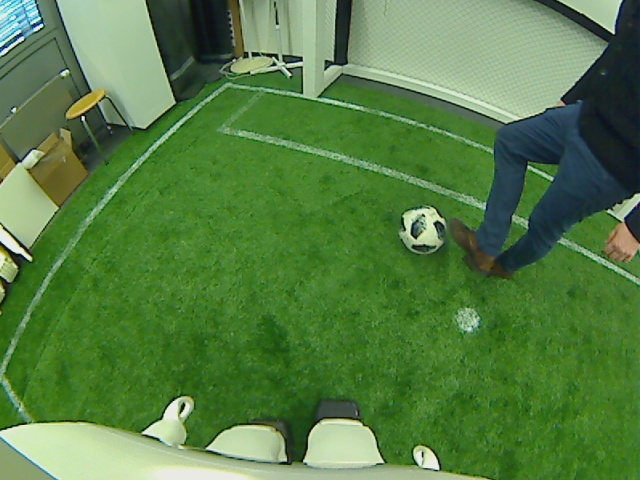ball: (399, 204, 446, 254)
